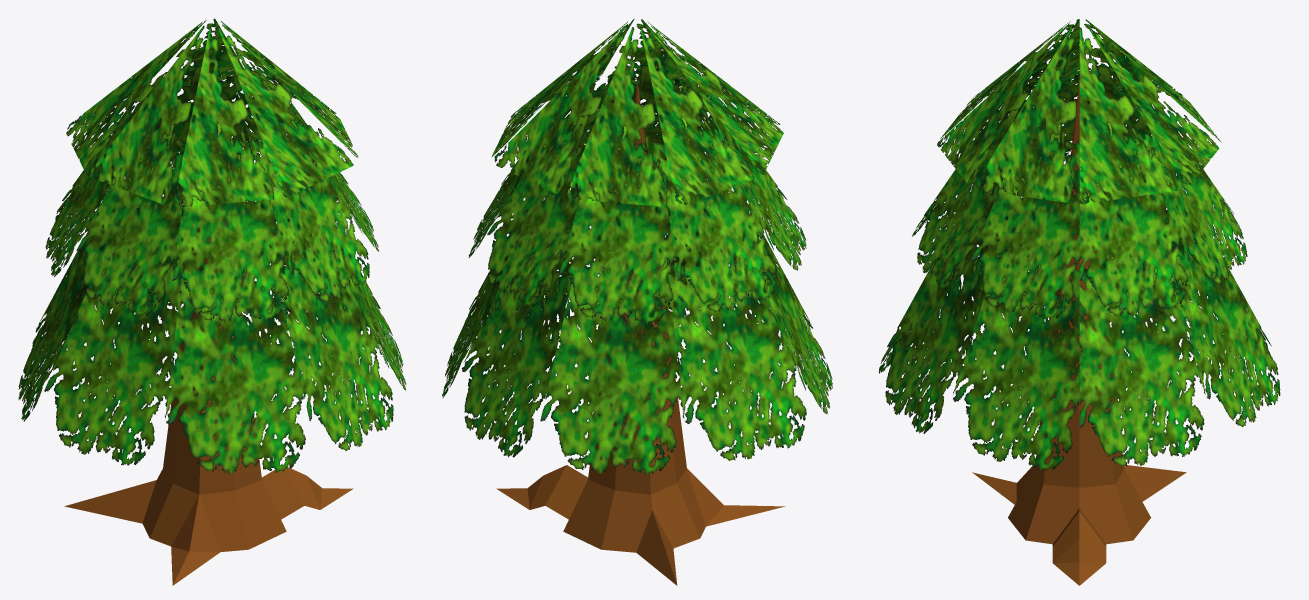
Rendered from stree 3.glb.
3 views of the same model, side by side, from view 1: azimuth 30°, elevation 25°; view 2: azimuth 150°, elevation 25°; view 3: azimuth 270°, elevation 25° (orthographic).
Visible parts, largest first — view 1: tree2; view 2: tree2; view 3: tree2.
Boxes of the visible parts, x1,y1,x2,y2 form: tree2: (18, 18, 406, 585); tree2: (442, 19, 832, 585); tree2: (879, 19, 1280, 585).
Bounding box in the file's own units: 1.62 × 2.09 × 1.62.
Materials: 2 (1 with a texture image).
